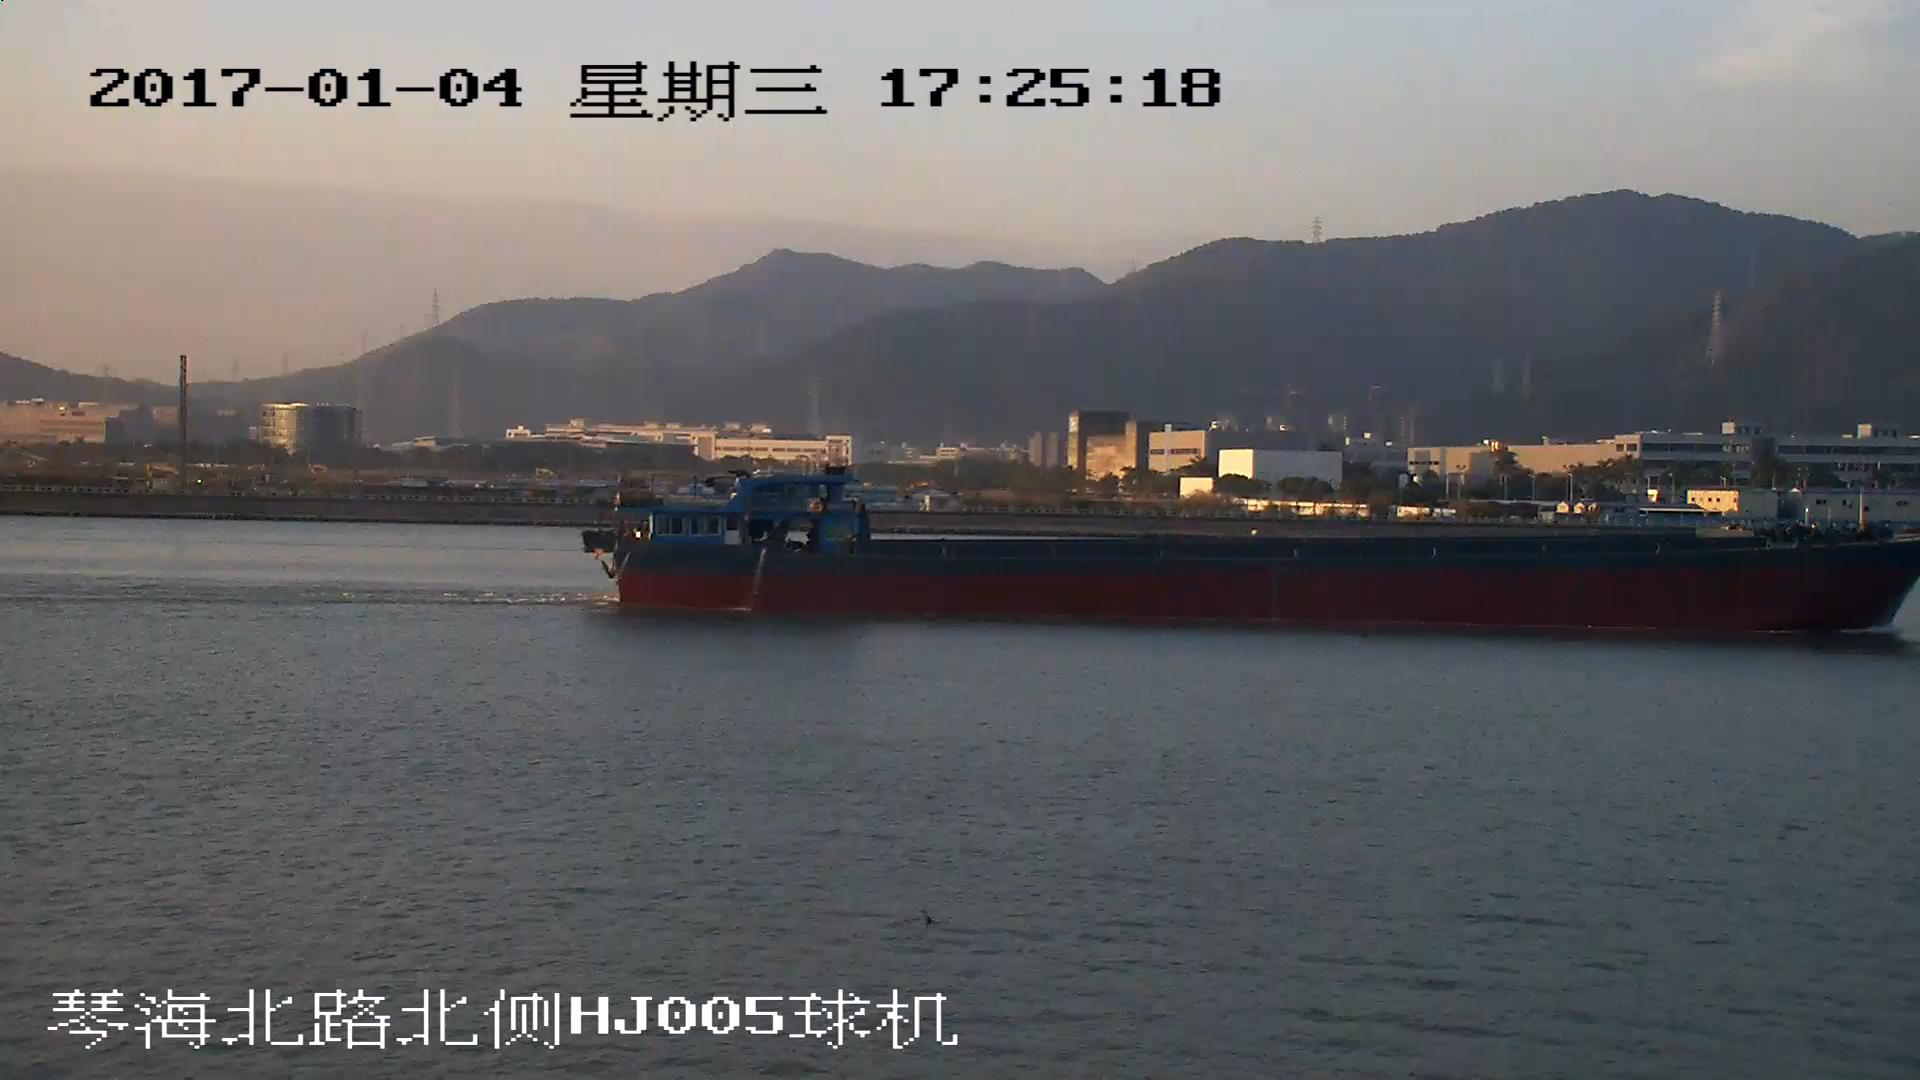Ship: (588, 468, 1920, 636)
